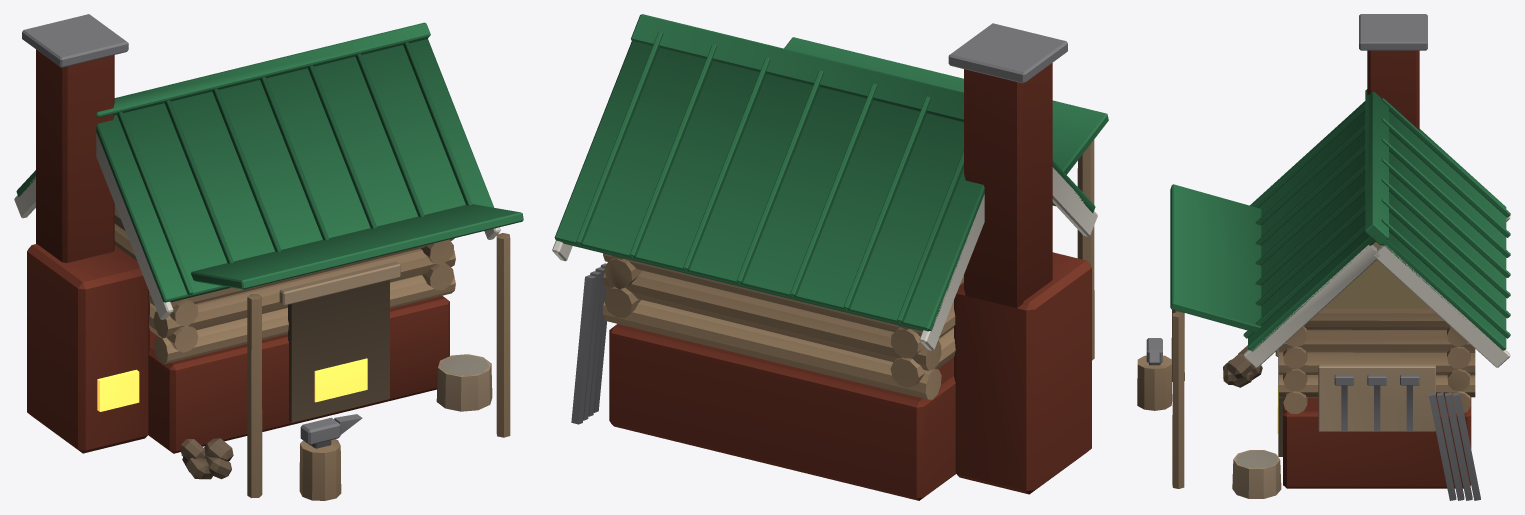
The model's file is bld_kuznica_e2.glb.
3 views of the same model, side by side, from view 1: azimuth 30°, elevation 25°; view 2: azimuth 150°, elevation 25°; view 3: azimuth 270°, elevation 25° (orthographic). The views are drawn at different scales.
Visible parts, largest first — view 1: kuznica; view 2: kuznica; view 3: kuznica.
Boxes of the visible parts, x1,y1,x2,y2 form: kuznica: (14, 14, 523, 500); kuznica: (552, 14, 1108, 500); kuznica: (1137, 14, 1510, 500).
Bounding box in the file's own units: 1.15 × 1.13 × 1.14.
